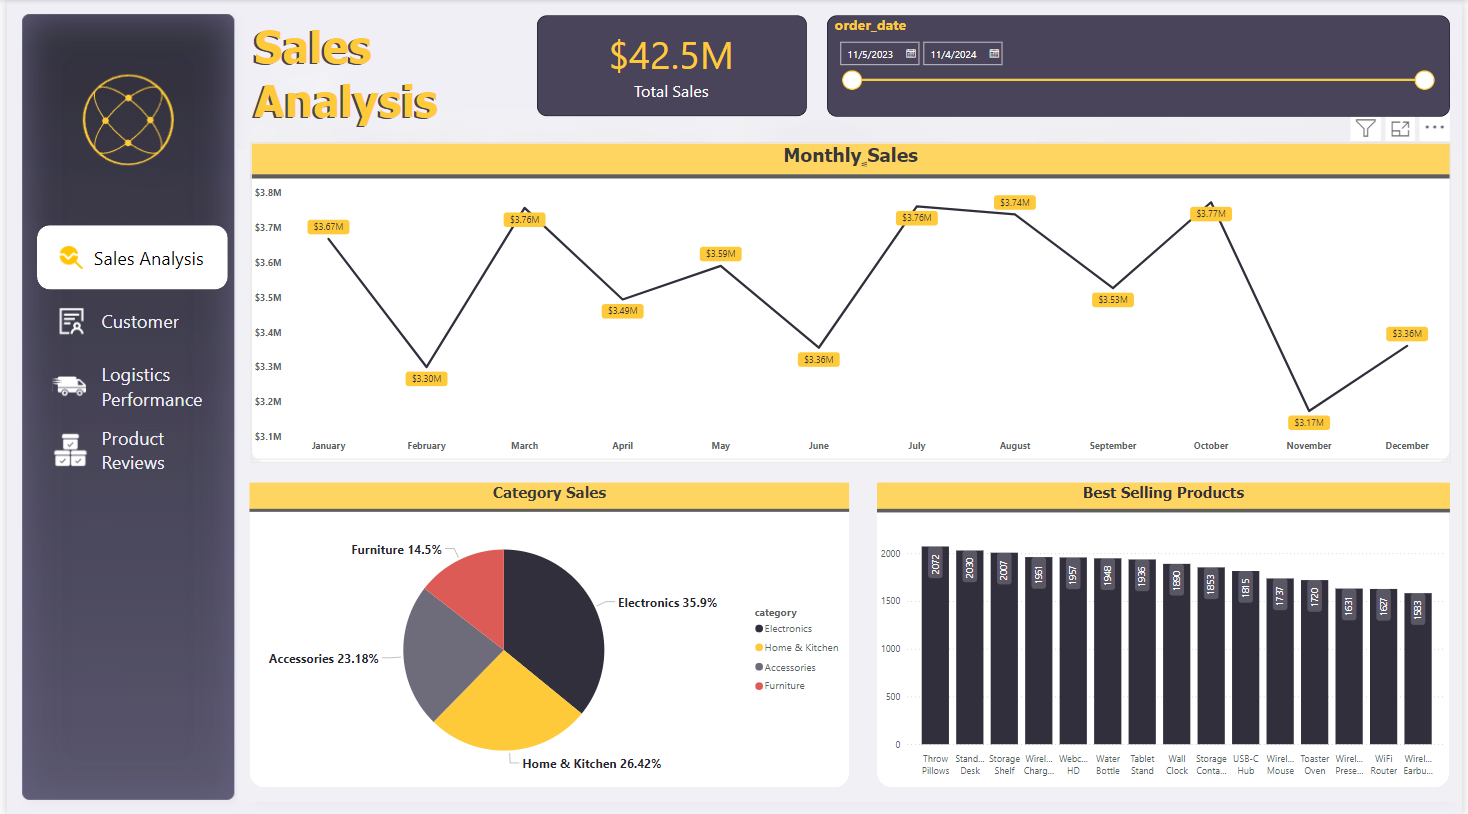

What the dashboard file says about the page in this screenshot:
{"tool":"powerbi","page":{"name":"Sales  Analysis 🛍️","canvas":[1920,1080],"ordinal":0},"visuals":[{"type":"shape","box":[700,22,356.4,133.3],"z":0,"group":"g2"},{"type":"shape","box":[1082,22,822,134],"z":0,"group":"g3"},{"type":"textbox","title":"Title","box":[317.8,23.3,360.6,166.1],"z":0,"group":"g4"},{"type":"shape","box":[321.4,189.9,1583.1,422],"z":0,"group":"g1"},{"type":"shape","box":[320.6,639.4,791.5,400.3],"z":0},{"type":"textbox","title":"Title","box":[321.3,21.4,360.6,166.1],"z":1000,"group":"g4"},{"type":"slicer","title":"order_date","fields":{"Values":["orders.order_date"]},"box":[1086.9,21.4,804.9,113.8],"z":1000,"group":"g3"},{"type":"card","fields":{"Values":["Sum(orders.total_price)"]},"box":[718.9,34,318.6,104.3],"z":1000,"group":"g2"},{"type":"lineChart","title":"Monthly ٍٍSales","fields":{"Category":["orders.order_date.Variation.Date Hierarchy.Month"],"Y":["Sum(orders.total_price)"]},"box":[321,190,1582.9,418.6],"z":1000,"group":"g1"},{"type":"shape","box":[1148.4,639.4,755.3,400.3],"z":1000},{"type":"actionButton","title":"Ratios","box":[39.6,552.9,251.7,84.8],"z":2000,"group":"g5"},{"type":"pieChart","title":"Category Sales","fields":{"Category":["products.category"],"Y":["Sum(order_items.quantity)"]},"box":[320.6,637.6,791.5,398.5],"z":2000},{"type":"clusteredColumnChart","title":"Best Selling Products","fields":{"Category":["products.product_name"],"Y":["Sum(order_items.quantity)"]},"box":[1148.5,638.8,755.8,396.2],"z":3000},{"type":"group","id":"g1","title":"Group 2","box":[321,189.9,1583.5,422],"z":4000},{"type":"actionButton","title":"Expenses","box":[40.1,468.7,251.7,84.8],"z":4000,"group":"g5"},{"type":"group","id":"g2","title":"Group 1","box":[700,22,356,134],"z":5000},{"type":"group","id":"g3","title":"Group 3","box":[1082,21.4,822,134.6],"z":6000},{"type":"actionButton","title":"Revenue","box":[39.6,383.9,251.7,84.8],"z":6000,"group":"g5"},{"type":"group","id":"g4","title":"Group 4","box":[317.8,21.4,360,168],"z":7000},{"type":"group","id":"g5","title":"Buttons Menu","box":[39.6,299,252.2,507.9],"z":8000},{"type":"actionButton","title":"Overview_active","box":[39.6,299,251.7,84.8],"z":9000,"group":"g5"}]}

Visuals, with their boxes in screenshot pixels (x1, y1, x2, y2), scaled from the page's 1920x1080 canvas onto the 1468x814 screenshot:
shape: <region>535, 17, 808, 117</region>
shape: <region>827, 17, 1456, 118</region>
"Title" textbox: <region>243, 18, 519, 143</region>
shape: <region>246, 143, 1456, 461</region>
shape: <region>245, 482, 850, 784</region>
"Title" textbox: <region>246, 16, 521, 141</region>
"order_date" slicer: <region>831, 16, 1446, 102</region>
card - Sum(orders.total_price): <region>550, 26, 793, 104</region>
"Monthly ٍٍSales" lineChart: <region>245, 143, 1456, 459</region>
shape: <region>878, 482, 1456, 784</region>
"Ratios" actionButton: <region>30, 417, 223, 481</region>
"Category Sales" pieChart: <region>245, 481, 850, 781</region>
"Best Selling Products" clusteredColumnChart: <region>878, 481, 1456, 780</region>
"Group 2" group: <region>245, 143, 1456, 461</region>
"Expenses" actionButton: <region>31, 353, 223, 417</region>
"Group 1" group: <region>535, 17, 807, 118</region>
"Group 3" group: <region>827, 16, 1456, 118</region>
"Revenue" actionButton: <region>30, 289, 223, 353</region>
"Group 4" group: <region>243, 16, 518, 143</region>
"Buttons Menu" group: <region>30, 225, 223, 608</region>
"Overview_active" actionButton: <region>30, 225, 223, 289</region>
